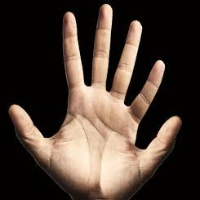ring: (110, 12, 148, 104)
